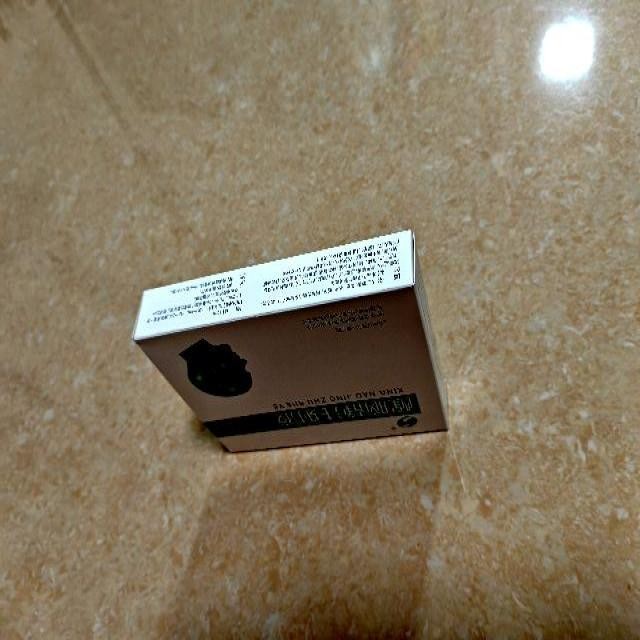box: (130, 228, 450, 456)
